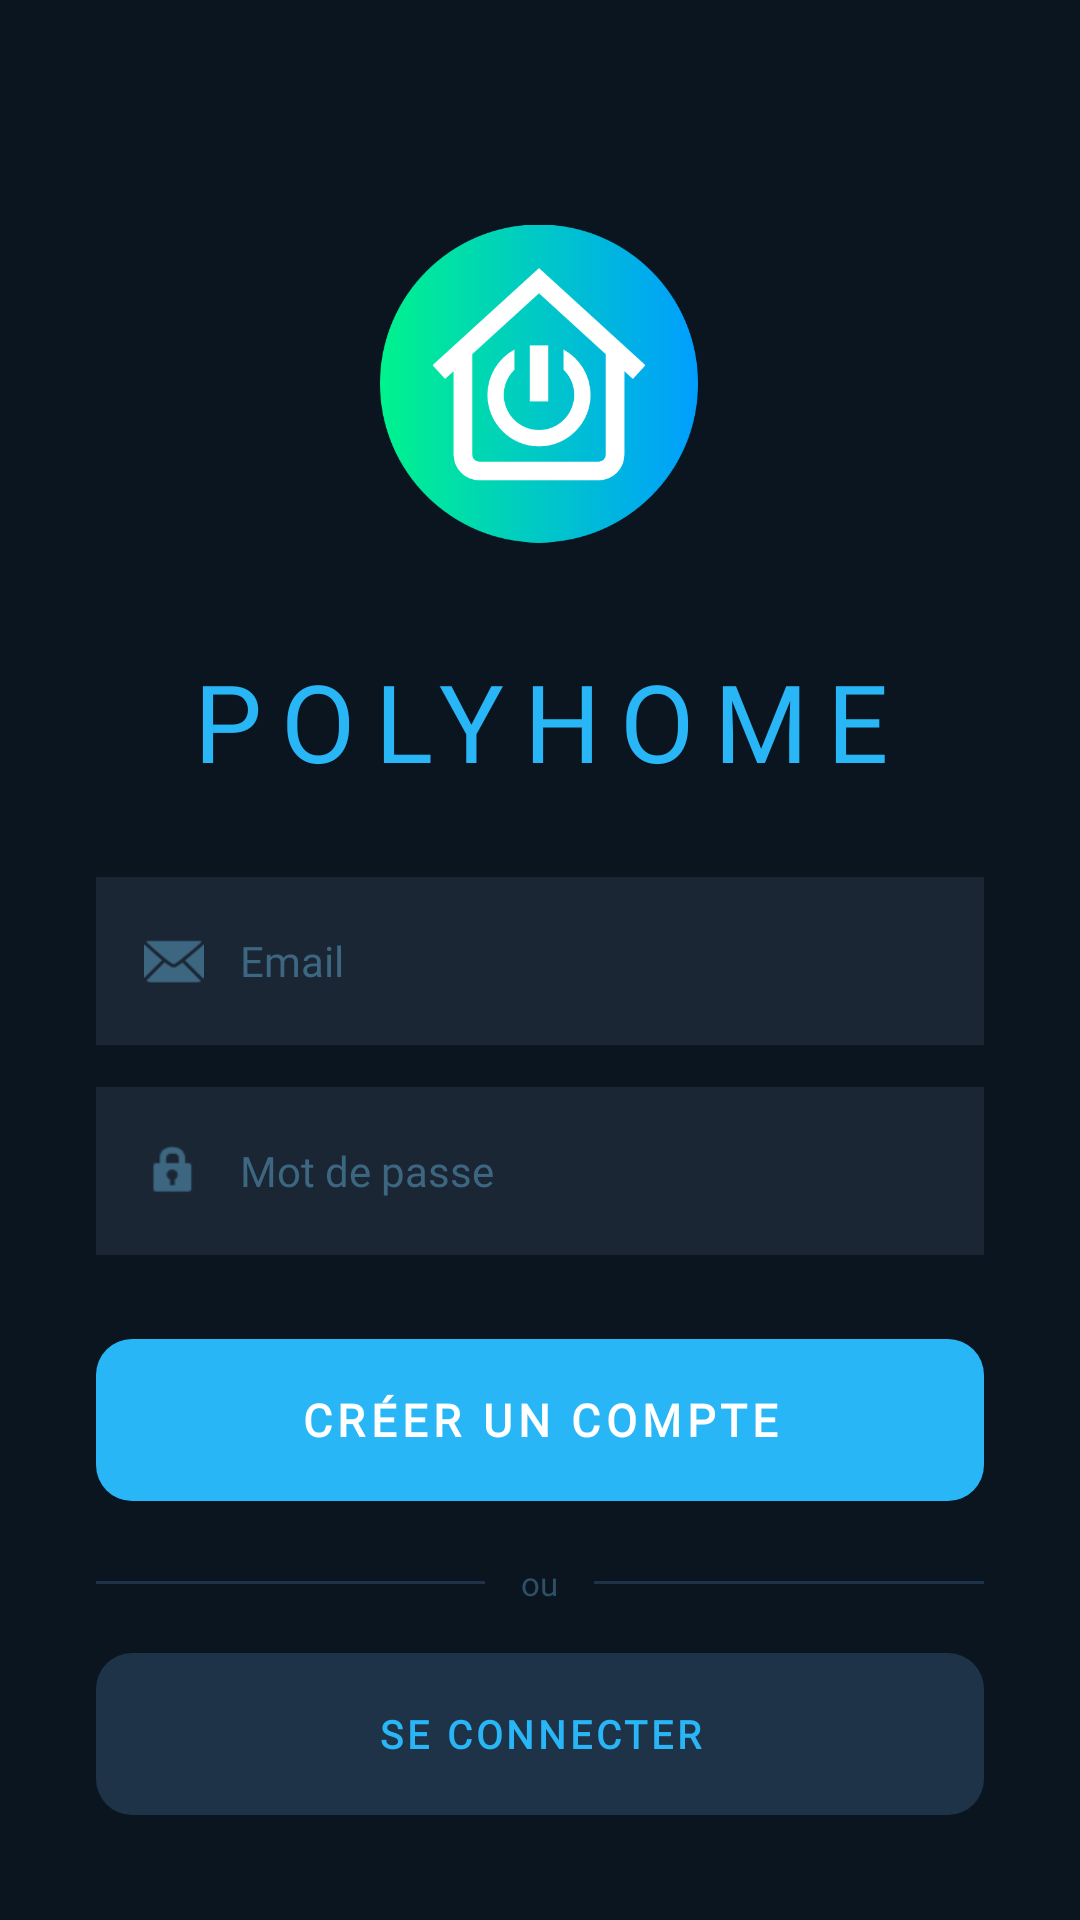

Named icons in this screenshot (1080px x 1920px) and their centers, (x=x, y=y):
lock idle: (x=172, y=1169)
